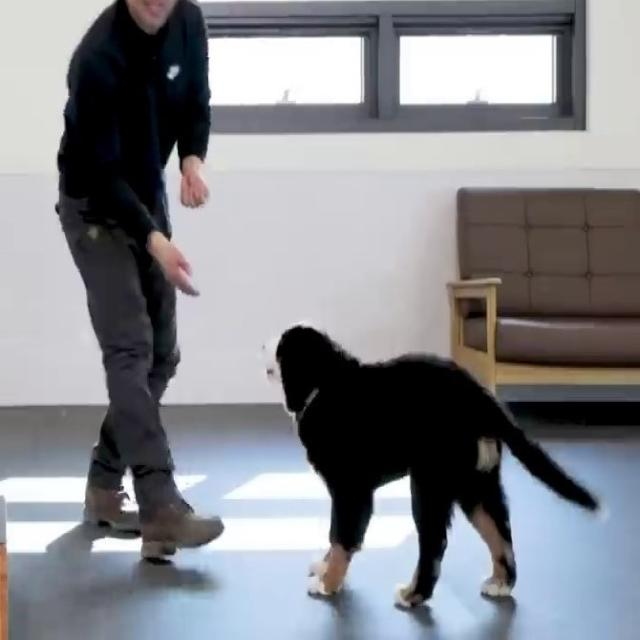Unleashed_Dog: (89, 191, 601, 609)
